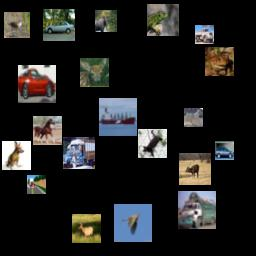automobile: (18, 65, 56, 103), (43, 9, 75, 41), (215, 141, 234, 160)
bird: (114, 204, 152, 242), (4, 12, 30, 38)
cat: (138, 129, 167, 158)
deer: (179, 153, 211, 185), (80, 58, 109, 87), (72, 214, 101, 243), (95, 10, 117, 32)
dog: (2, 141, 31, 170)
frog: (147, 4, 179, 36), (205, 47, 234, 76)
ship: (99, 98, 137, 136)
truck: (178, 191, 216, 229), (63, 137, 95, 169), (195, 25, 214, 44), (27, 175, 46, 194)
